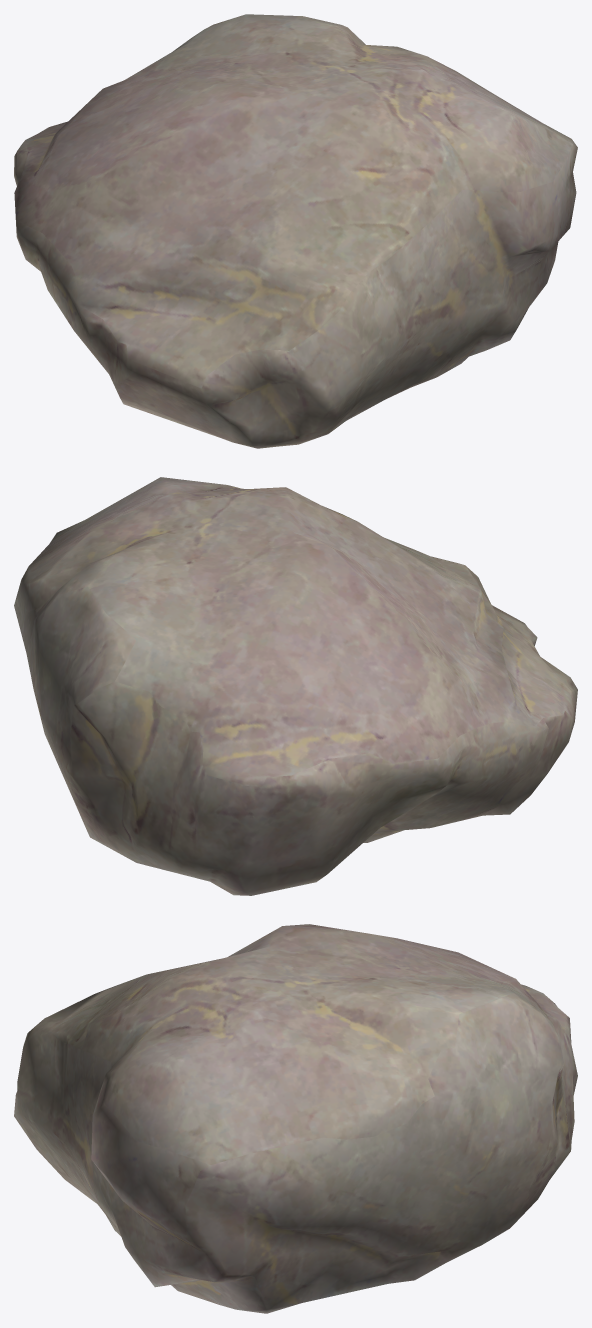
Rendered from Homeworld_Exterior_Common_Stone_Stone_07_Lod0.fbx.
3 views of the same model, one above another, from view 1: azimuth 30°, elevation 25°; view 2: azimuth 150°, elevation 25°; view 3: azimuth 270°, elevation 25° (orthographic). The views are drawn at different scales.
Parts seen in each view (by area): view 1: Area_Ly_Rock_HZ_River_03_Lod0; view 2: Area_Ly_Rock_HZ_River_03_Lod0; view 3: Area_Ly_Rock_HZ_River_03_Lod0.
Part boxes in pixels (bbox=[...]): Area_Ly_Rock_HZ_River_03_Lod0: bbox=[14, 14, 577, 448]; Area_Ly_Rock_HZ_River_03_Lod0: bbox=[14, 477, 577, 895]; Area_Ly_Rock_HZ_River_03_Lod0: bbox=[14, 924, 577, 1313].
Bounding box in the file's own units: 6.87 × 3.9 × 6.7.
